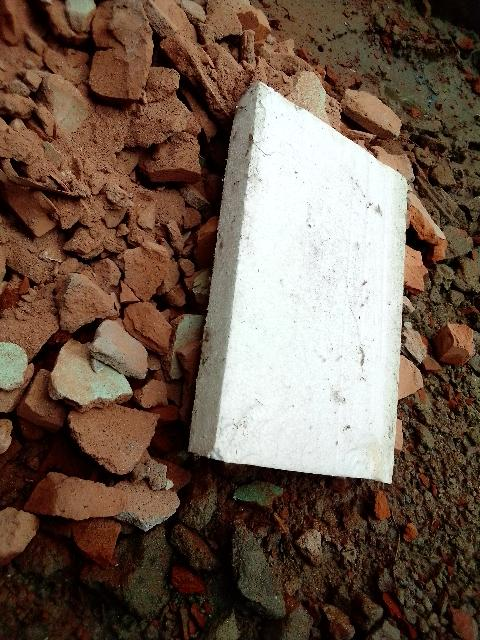cocksheet: (180, 54, 439, 518)
